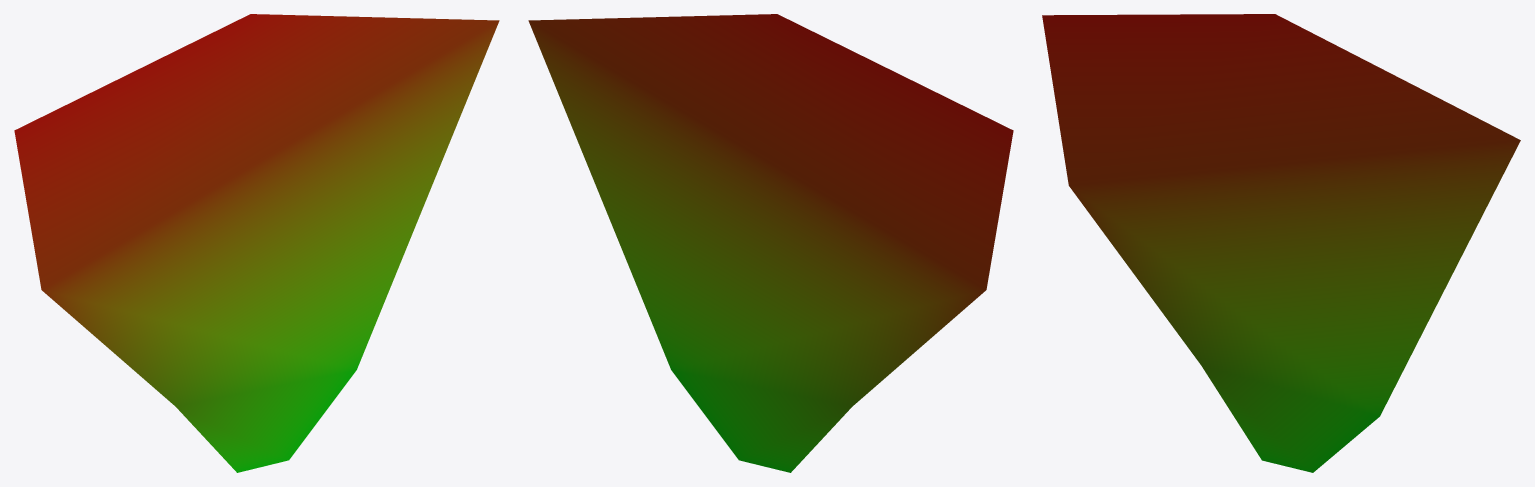
File: Var5_LOD6.fbx
3 views of the same model, side by side, from view 1: azimuth 30°, elevation 25°; view 2: azimuth 150°, elevation 25°; view 3: azimuth 330°, elevation 25° (orthographic).
Visible parts, largest first — view 1: _rw5e_Var5_LOD6; view 2: _rw5e_Var5_LOD6; view 3: _rw5e_Var5_LOD6.
Boxes of the visible parts, x1,y1,x2,y2 form: _rw5e_Var5_LOD6: (14,14,499,472); _rw5e_Var5_LOD6: (528,14,1013,472); _rw5e_Var5_LOD6: (1042,14,1520,472).
Bounding box in the file's own units: 81.71 × 73.33 × 5.54e-06.
